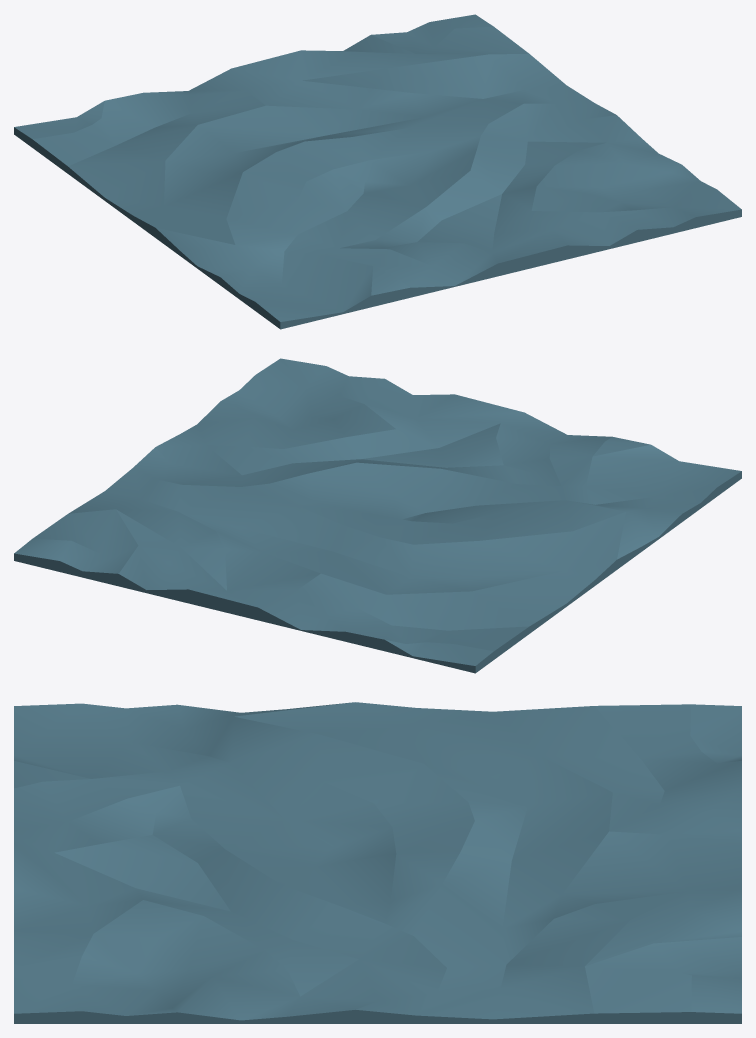
Rendered from Water_Base.glb.
The picture shows the model from 3 angles, top to bottom: view 1: azimuth 30°, elevation 25°; view 2: azimuth 150°, elevation 25°; view 3: azimuth 270°, elevation 25°; orthographic projection. The views are drawn at different scales.
Visible parts, largest first — view 1: Water_Base; view 2: Water_Base; view 3: Water_Base.
Part boxes in pixels (<box>): Water_Base: <box>14,14,741,329</box>; Water_Base: <box>14,358,741,673</box>; Water_Base: <box>14,702,741,1023</box>.
Size of the model in its own units: 1.47 by 0.0619 by 1.47.
